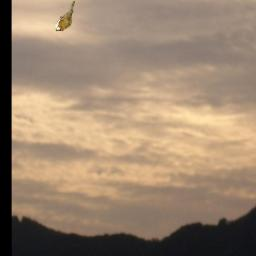Cuckoo: (55, 0, 75, 31)
